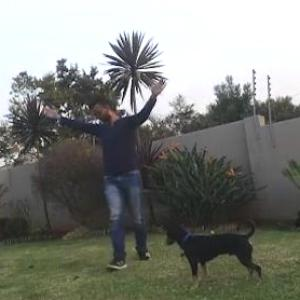takeoff: (24, 68, 163, 253)
